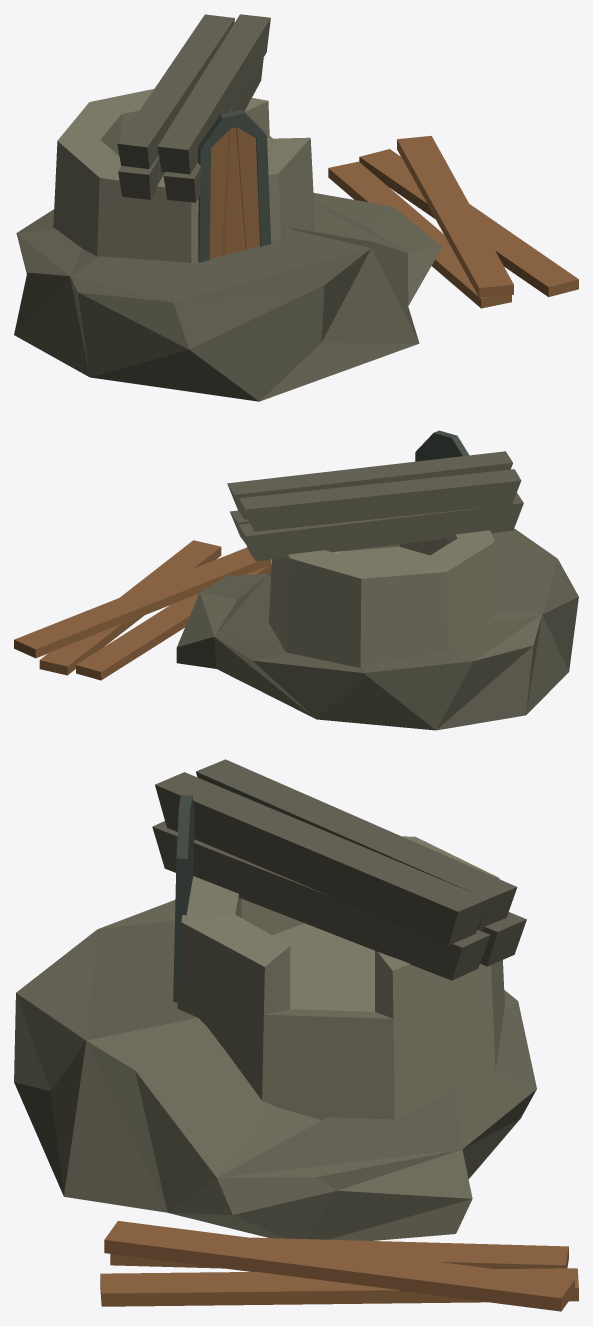
The model's file is WizardTower_build_mat.fbx.
The picture shows the model from 3 angles, top to bottom: view 1: azimuth 30°, elevation 25°; view 2: azimuth 150°, elevation 25°; view 3: azimuth 270°, elevation 25°; orthographic projection. The views are drawn at different scales.
Visible parts, largest first — view 1: WizardTower_build_mat; view 2: WizardTower_build_mat; view 3: WizardTower_build_mat.
Boxes of the visible parts, x1,y1,x2,y2 form: WizardTower_build_mat: (14, 14, 578, 401); WizardTower_build_mat: (14, 430, 578, 730); WizardTower_build_mat: (14, 759, 578, 1311).
Size of the model in its own units: 3.2 by 1.43 by 2.39.
